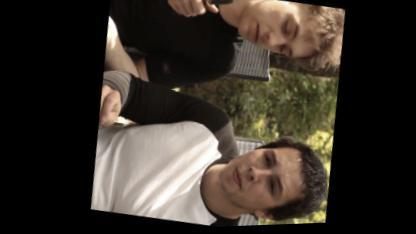knife: (186, 0, 252, 31)
